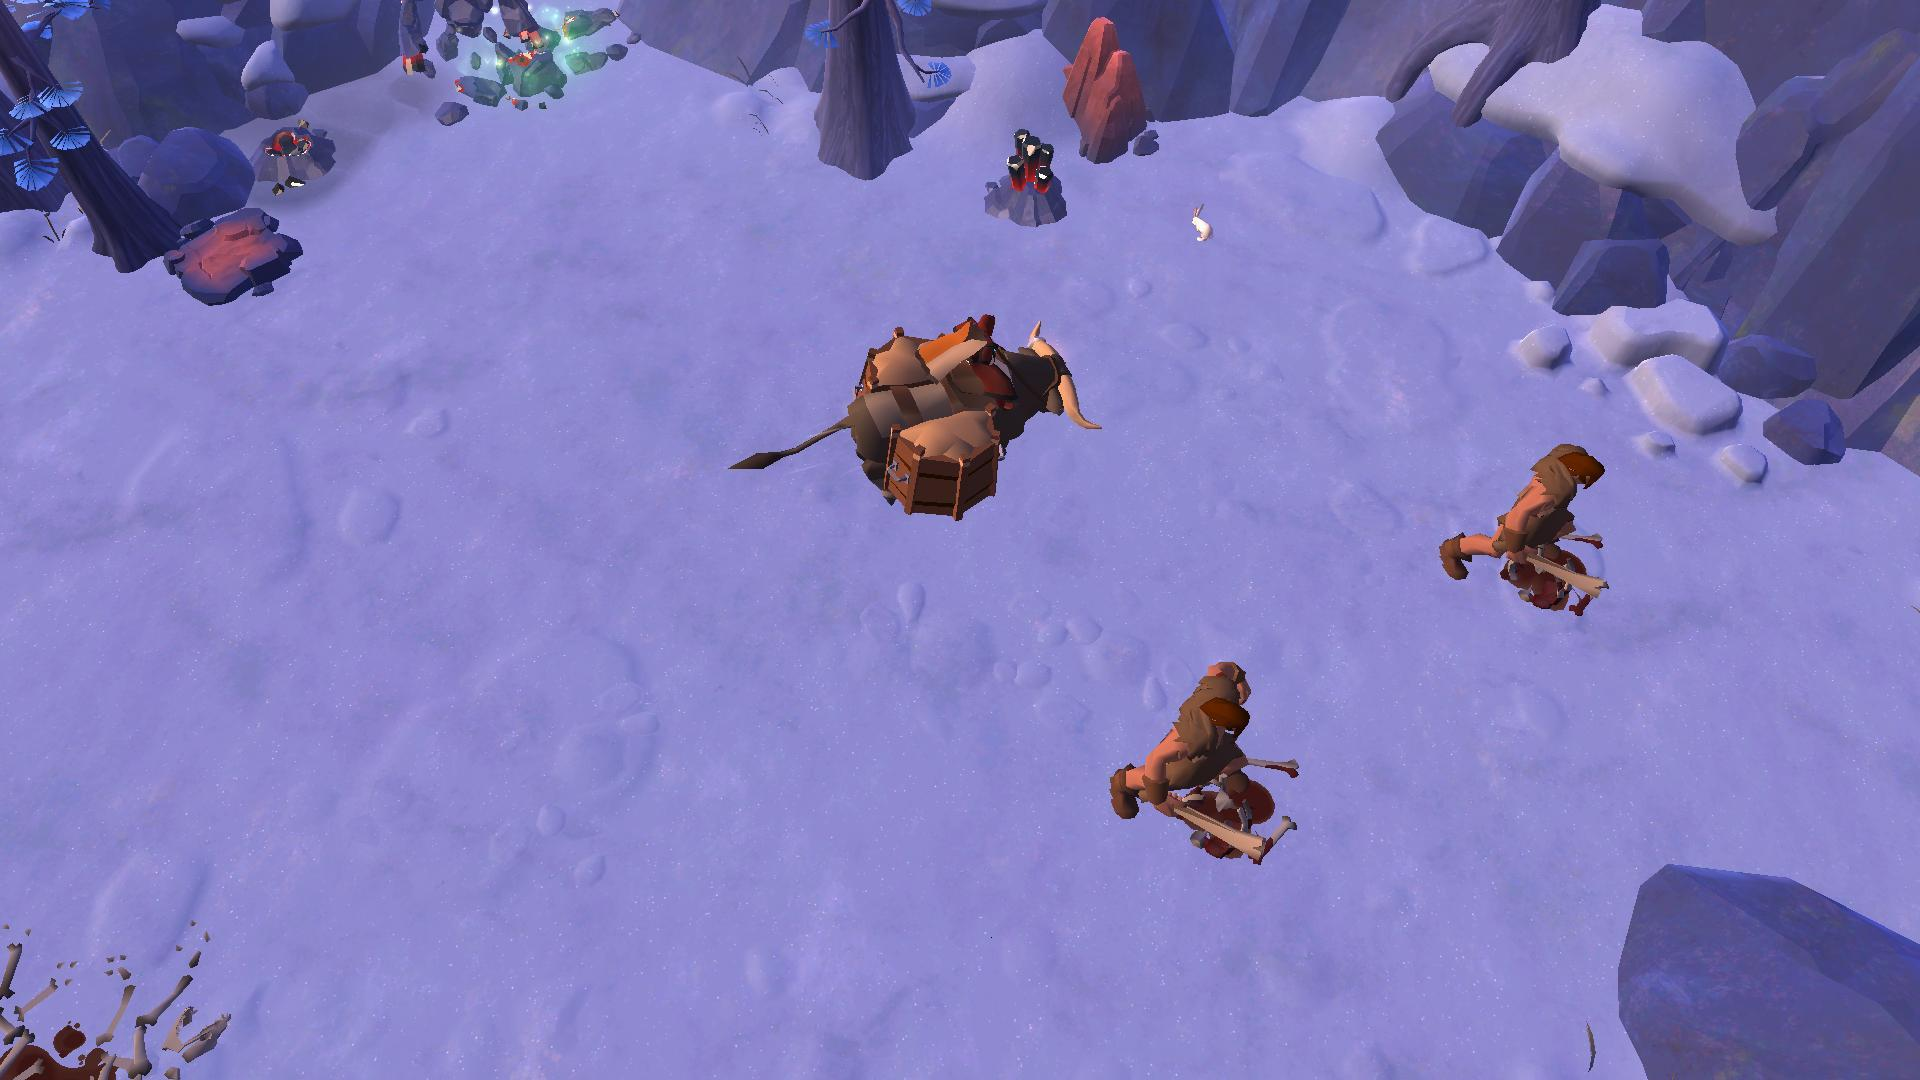enemy_factionKeeper: (1101, 647, 1280, 868), (1444, 433, 1622, 620)
ore_t5: (1004, 124, 1056, 203)
rock_t5: (1059, 15, 1158, 165)
